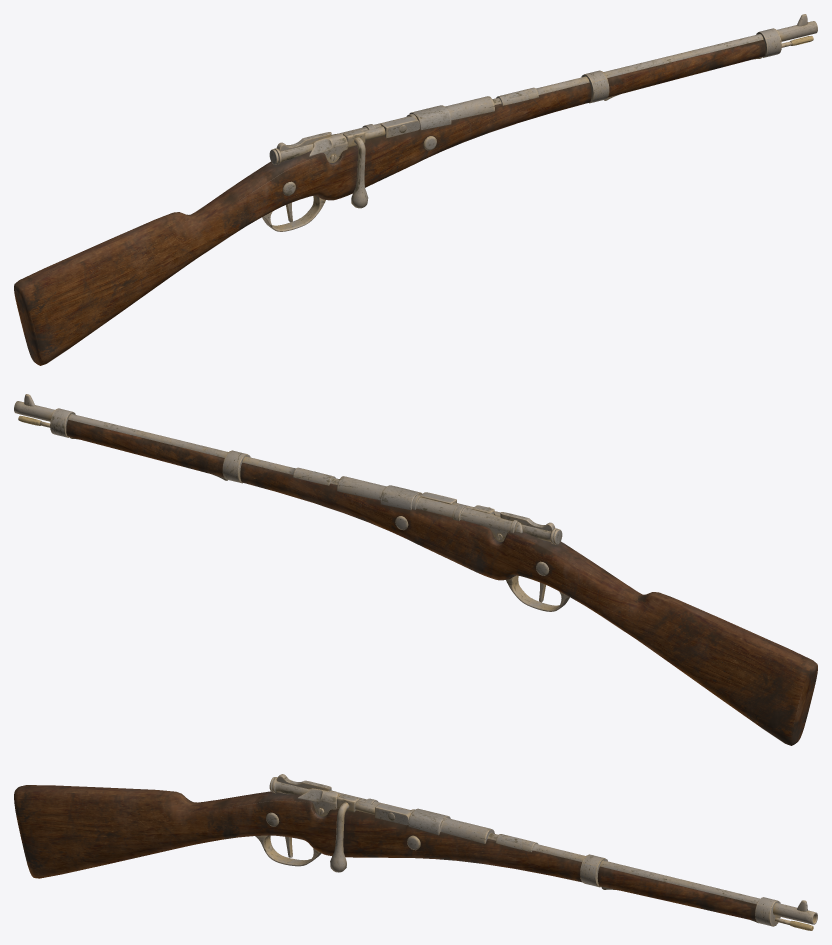
The picture shows the model from 3 angles, top to bottom: view 1: azimuth 30°, elevation 25°; view 2: azimuth 150°, elevation 25°; view 3: azimuth 330°, elevation 25°; orthographic projection.
Parts seen in each view (by area): view 1: Cube.023_0; view 2: Cube.023_0; view 3: Cube.023_0.
Part boxes in pixels (bbox=[...]): Cube.023_0: bbox=[14, 14, 817, 365]; Cube.023_0: bbox=[14, 394, 817, 745]; Cube.023_0: bbox=[14, 774, 817, 930].
Size of the model in its own units: 14.61 by 2.85 by 0.7689.
Materials: 1 (1 with a texture image).
